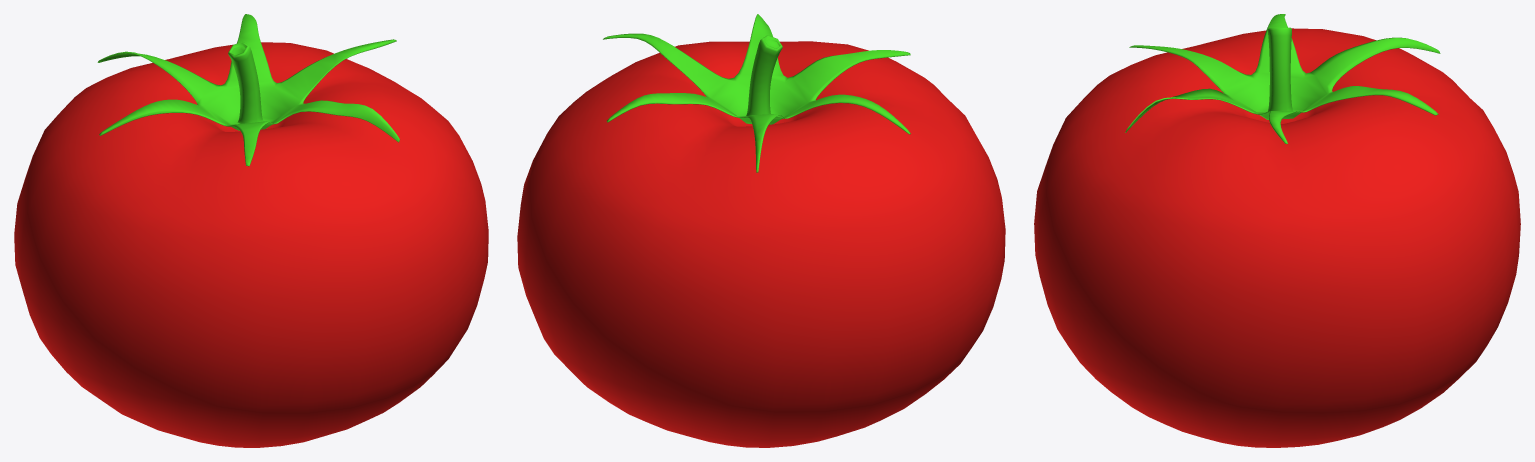
File: YaellTomato.fbx
3 views of the same model, side by side, from view 1: azimuth 30°, elevation 25°; view 2: azimuth 150°, elevation 25°; view 3: azimuth 270°, elevation 25° (orthographic). The views are drawn at different scales.
Parts seen in each view (by area): view 1: Tomato_01.001; view 2: Tomato_01.001; view 3: Tomato_01.001.
Part boxes in pixels (bbox=[...]): Tomato_01.001: bbox=[14, 14, 488, 447]; Tomato_01.001: bbox=[517, 14, 1005, 447]; Tomato_01.001: bbox=[1034, 14, 1520, 447].
Bounding box in the file's own units: 0.5174 × 0.4588 × 0.5151.
